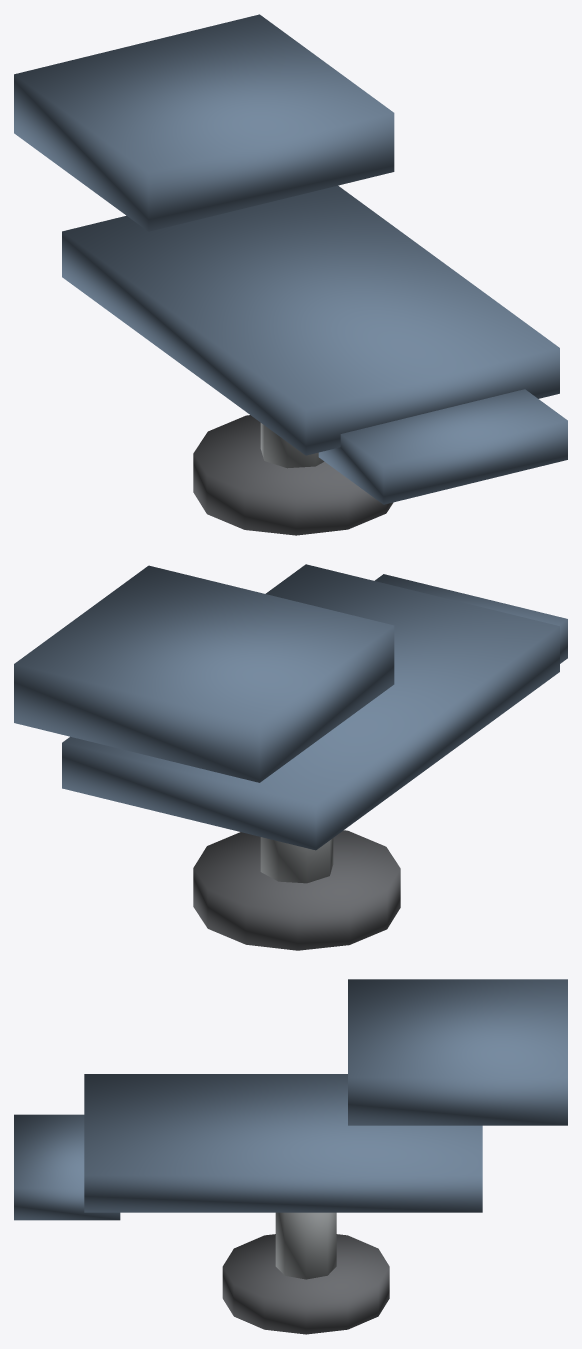
File: dentist_chair__squat.glb
3 views of the same model, one above another, from view 1: azimuth 30°, elevation 25°; view 2: azimuth 150°, elevation 25°; view 3: azimuth 270°, elevation 25° (orthographic). The views are drawn at different scales.
Parts seen in each view (by area): view 1: world; view 2: world; view 3: world.
Part boxes in pixels (x1,y1,x2,y2): world: (14,14,567,535); world: (14,564,567,950); world: (14,979,567,1334).
Bounding box in the file's own units: 0.682 × 0.8484 × 1.58.
